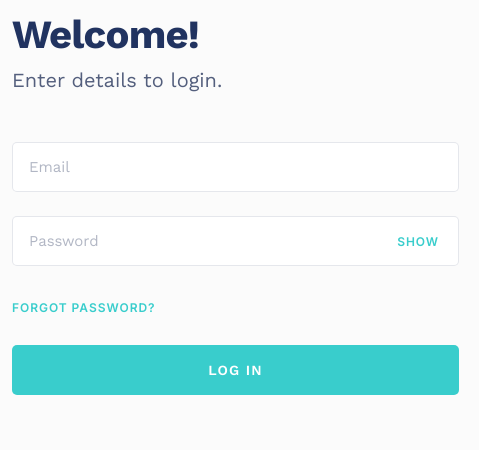
Scenario: LoginForm Component › displays validation errors for invalid email and short password
Type "invalid-email" into the field with placeholder "Email". click: (236, 167)
box: [12,142,459,192]
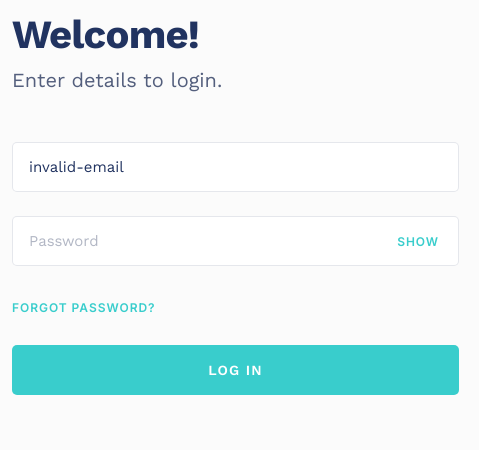
Type "123" into the password field with placeholder "Password". click: (236, 241)
box: [12,216,459,266]
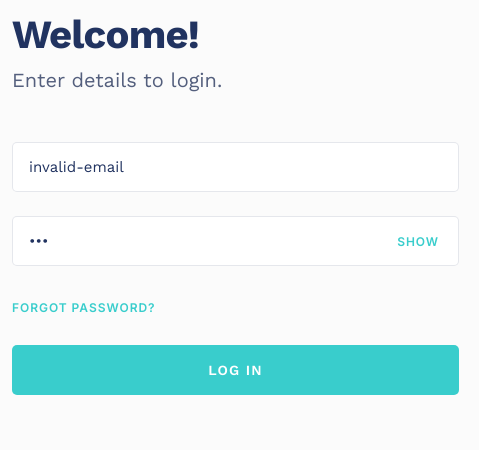
Submit the form, box [12,142,459,395]
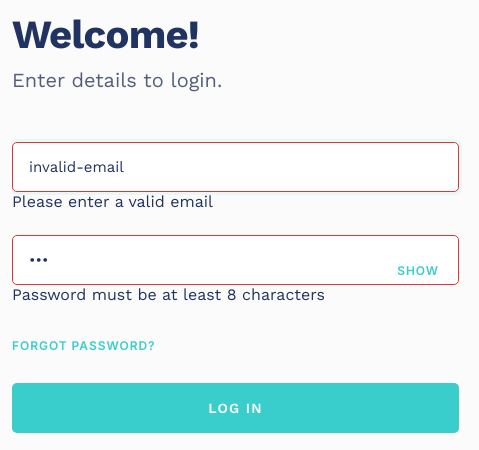
Check: the text "Please enter a valid email" is shown, box [12,192,213,211]
Check: the text "Password must be at least 8 characters" is shown, box [12,285,325,304]
